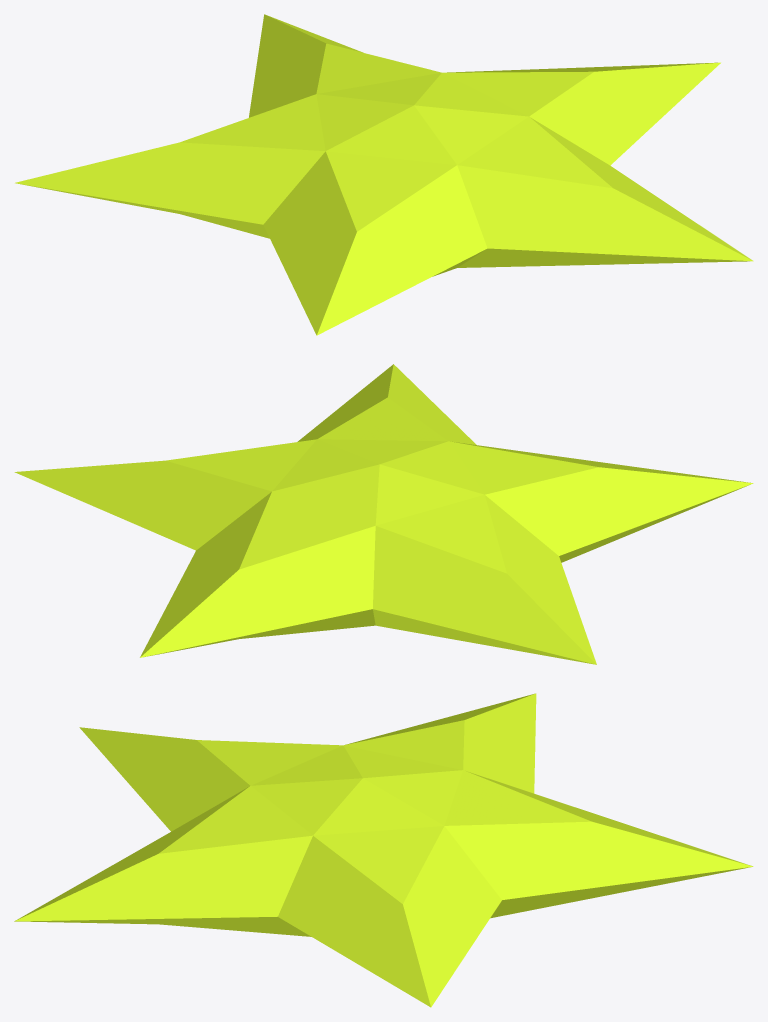
File: Star03.fbx
The picture shows the model from 3 angles, top to bottom: view 1: azimuth 30°, elevation 25°; view 2: azimuth 150°, elevation 25°; view 3: azimuth 270°, elevation 25°; orthographic projection. The views are drawn at different scales.
Visible parts, largest first — view 1: Star03; view 2: Star03; view 3: Star03.
Boxes of the visible parts, left/top/right/bottom form: Star03: left=15, top=14, right=753, bottom=335; Star03: left=14, top=364, right=753, bottom=664; Star03: left=14, top=693, right=753, bottom=1007.
Bounding box in the file's own units: 5.79 × 1.12 × 5.76.
